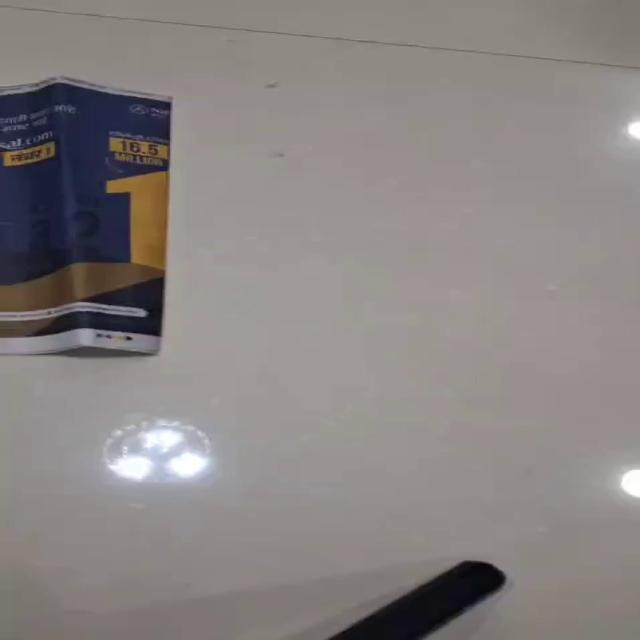paper: (0, 75, 173, 356)
